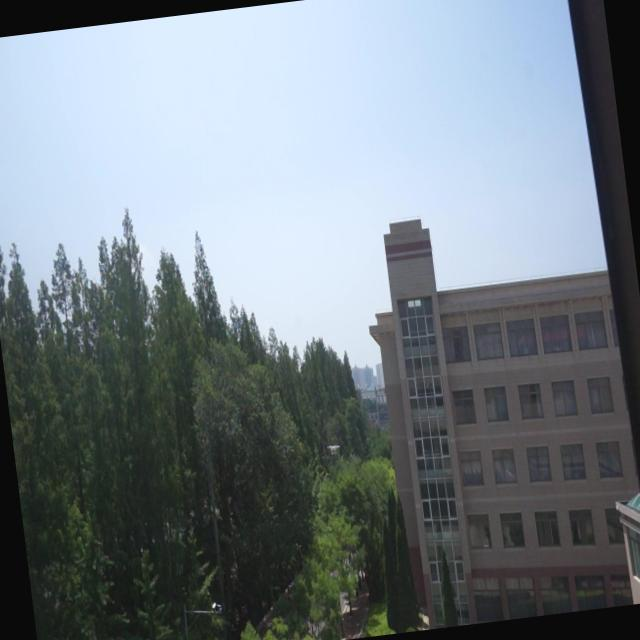drone: (324, 439, 341, 457)
